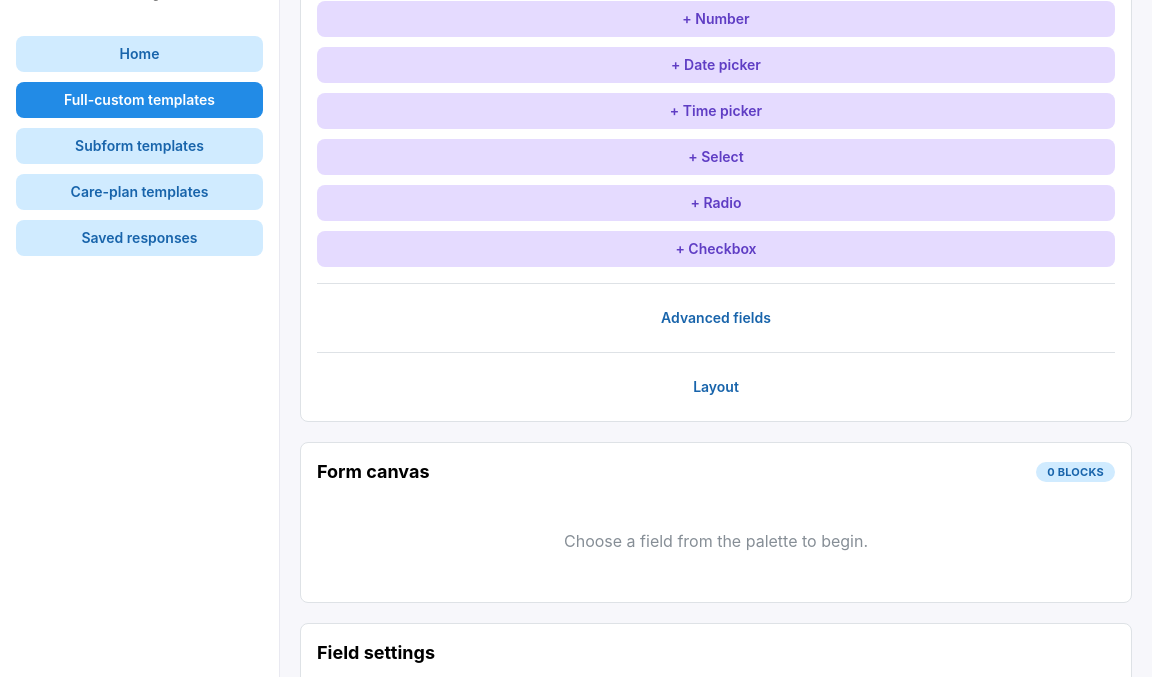
Test: form builder › groups less-common field types behind an expandable advanced palette
(page scrolled)
Click the button "Advanced fields": (716, 318) [317, 300, 1115, 336]
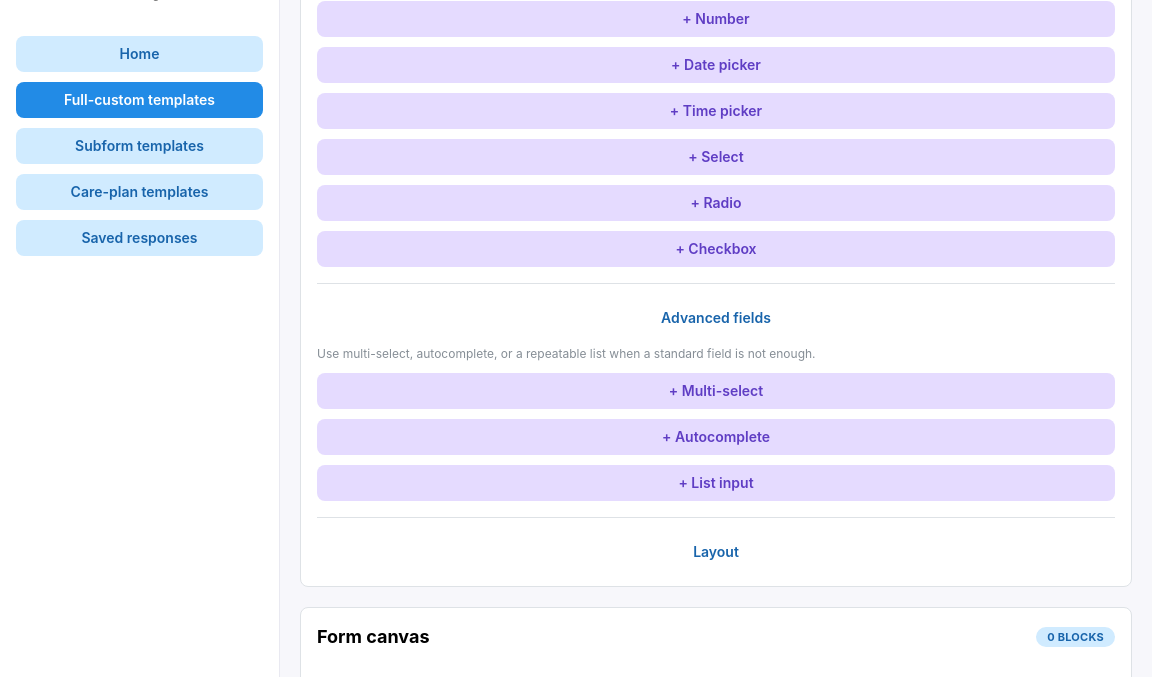
Expected: the button with aria-label "Add multi-select" is shown, [317, 373, 1115, 409]
Expected: the button with aria-label "Add list input" is shown, [317, 465, 1115, 501]
